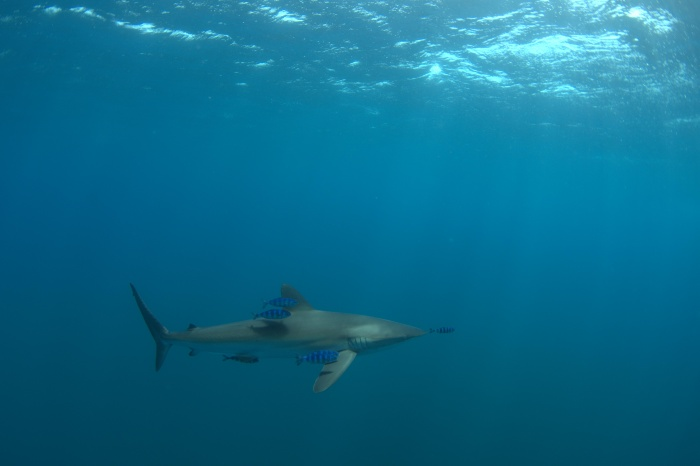Mako: (117, 262, 434, 406)
